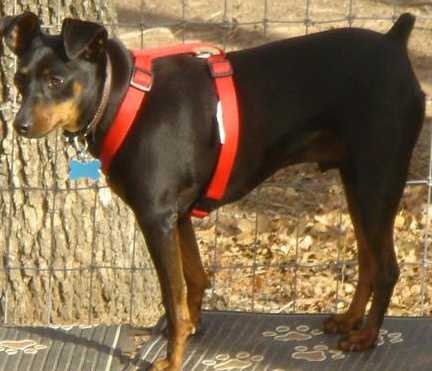dog: (0, 0, 432, 357)
